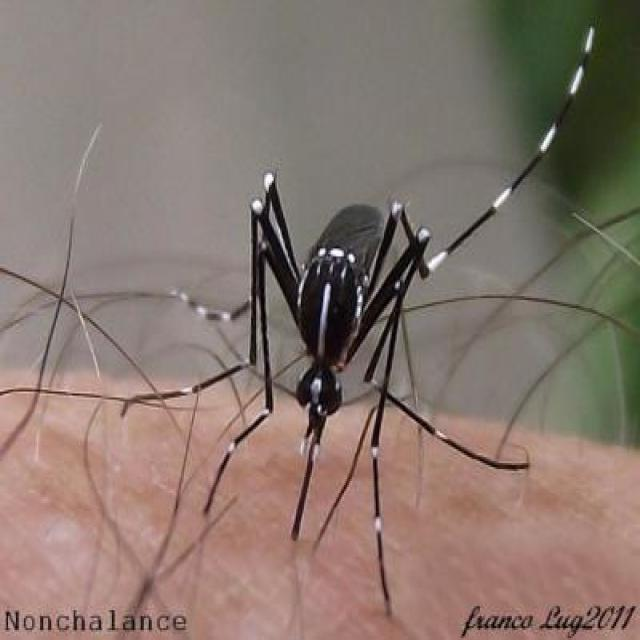antennae: (207, 323, 309, 418), (323, 376, 408, 407)
body: (287, 200, 392, 426)
insect: (115, 23, 604, 622)
legs: (356, 36, 593, 611), (120, 153, 300, 521)
mouthpart: (283, 404, 335, 549)
wings: (306, 191, 389, 269)
